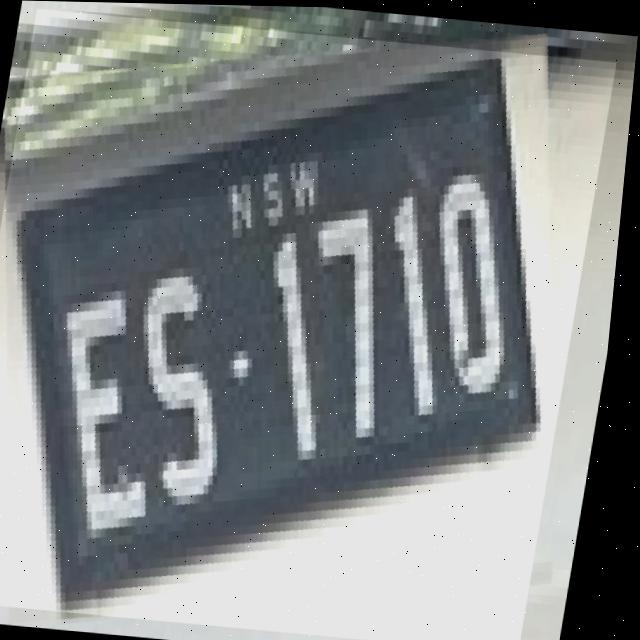LicensePlate: (0, 7, 619, 640)
